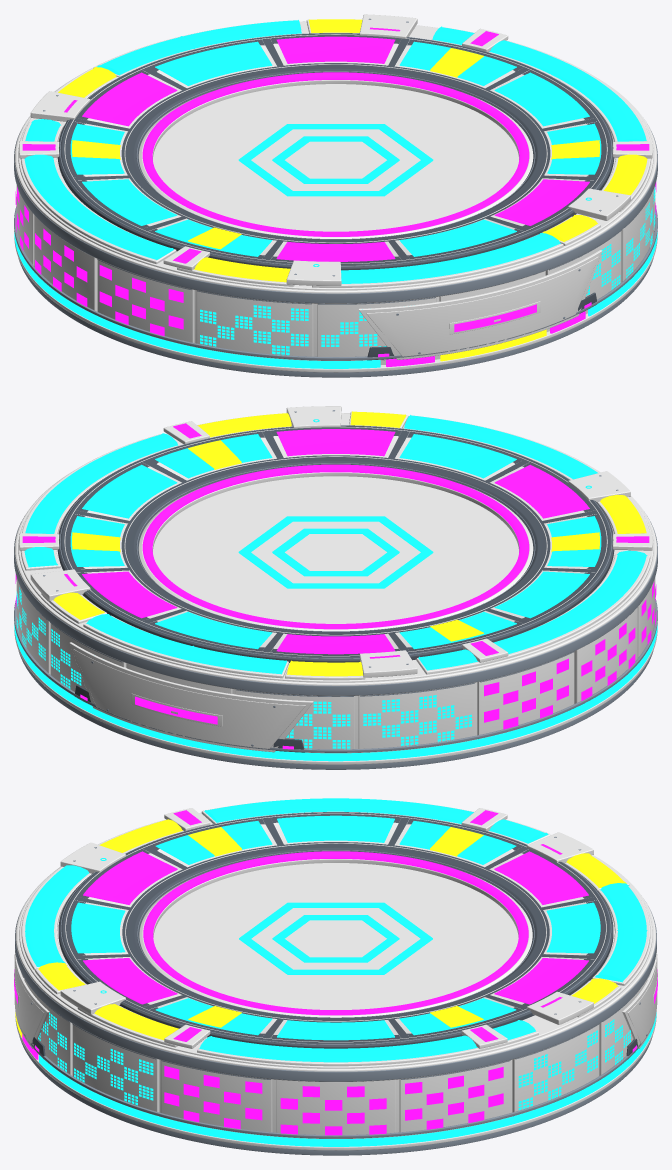
Rendered from Blocker.fbx.
3 views of the same model, one above another, from view 1: azimuth 30°, elevation 25°; view 2: azimuth 150°, elevation 25°; view 3: azimuth 270°, elevation 25° (orthographic).
Visible parts, largest first — view 1: SM_Puck_Blocker_RetroArcade; view 2: SM_Puck_Blocker_RetroArcade; view 3: SM_Puck_Blocker_RetroArcade.
Boxes of the visible parts, x1,y1,x2,y2 form: SM_Puck_Blocker_RetroArcade: (14,14,657,377); SM_Puck_Blocker_RetroArcade: (14,406,657,769); SM_Puck_Blocker_RetroArcade: (14,798,657,1155).
Bounding box in the file's own units: 106 × 107 × 18.4.
